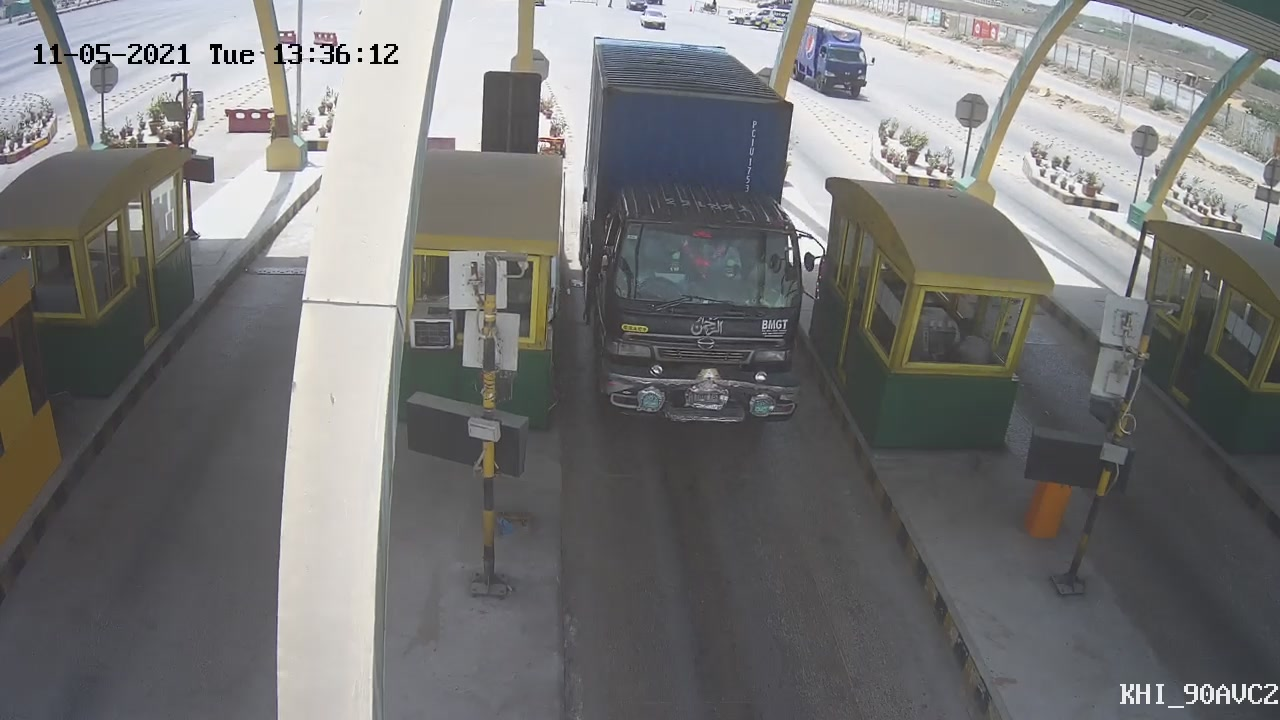F5: (584, 28, 808, 434)
